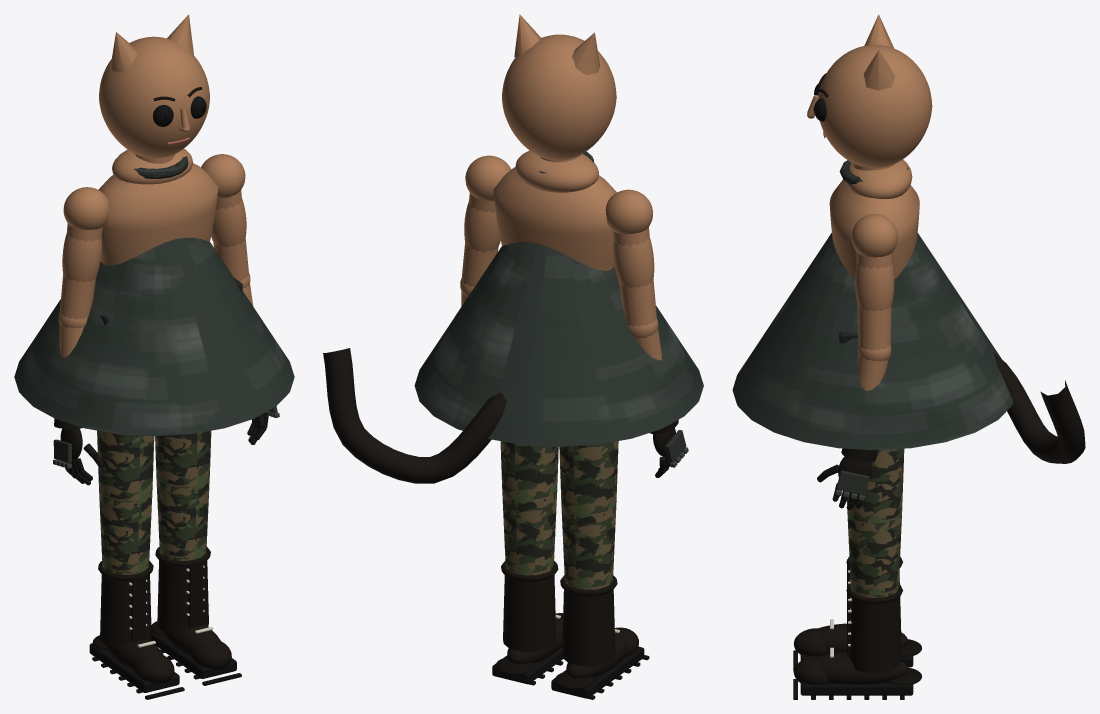
File: 09-mutant-felin.glb
The picture shows the model from 3 angles, left to right: view 1: azimuth 30°, elevation 25°; view 2: azimuth 150°, elevation 25°; view 3: azimuth 270°, elevation 25°; orthographic projection. The views are drawn at different scales.
Size of what is drawn, in the model's own units: 0.7709 by 1.8 by 0.8932.
24 materials, 5 textured.
